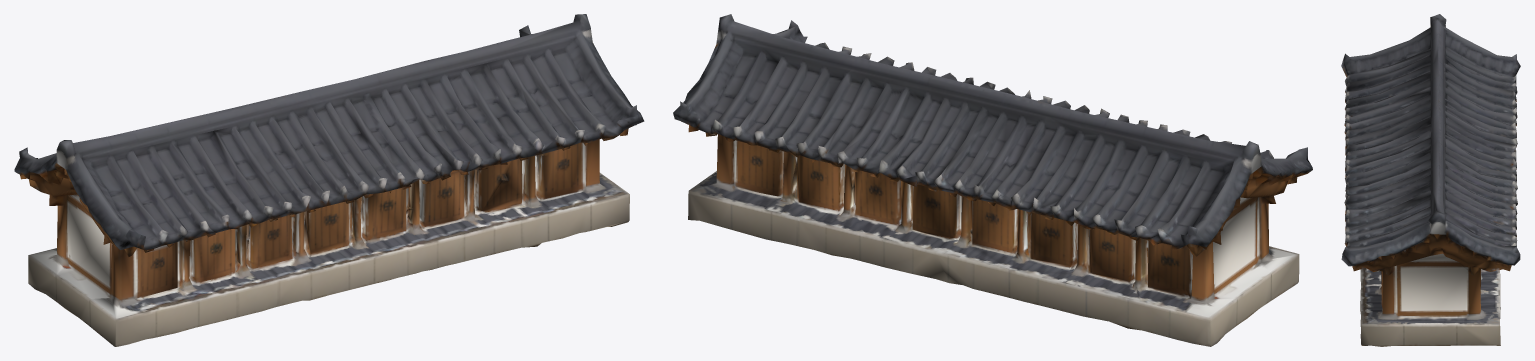
Rendered from giwa_long.glb.
3 renders of one model, left to right at view 1: azimuth 30°, elevation 25°; view 2: azimuth 150°, elevation 25°; view 3: azimuth 270°, elevation 25°, orthographic. The views are drawn at different scales.
Parts seen in each view (by area): view 1: low; view 2: low; view 3: low.
Boxes of the visible parts, bbox=[...] form: low: bbox=[14, 14, 644, 346]; low: bbox=[673, 14, 1312, 346]; low: bbox=[1341, 14, 1520, 346].
Bounding box in the file's own units: 1 × 0.3159 × 0.3764.
1 material, 1 textured.
